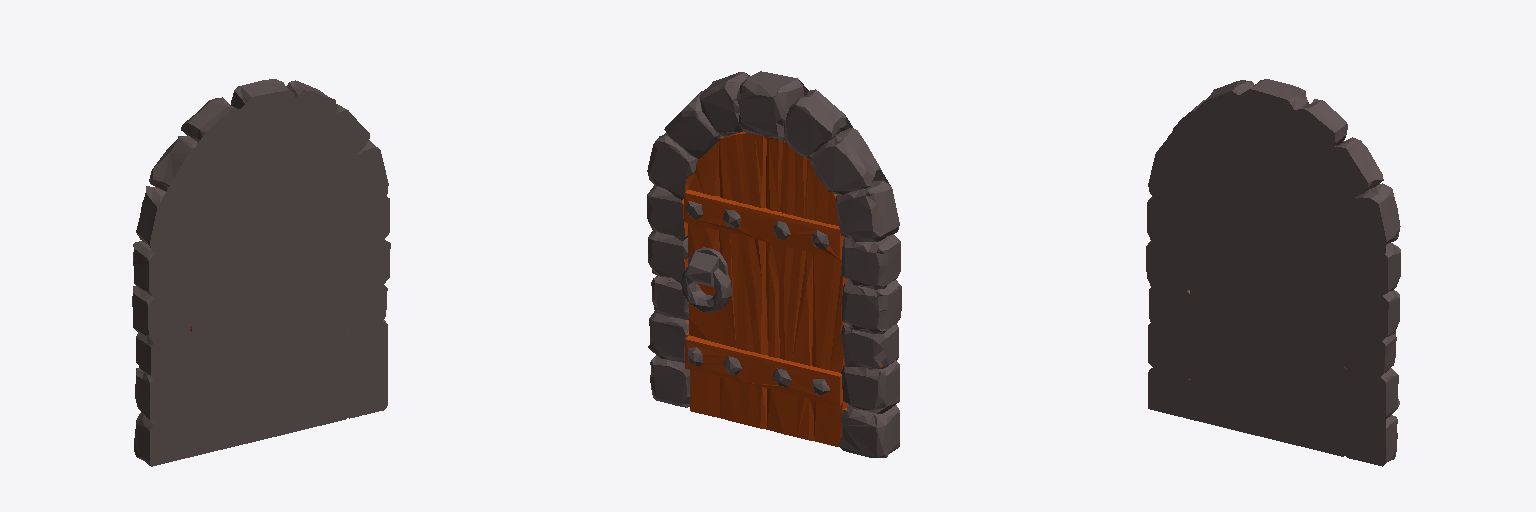
The model's file is door.obj.
The picture shows the model from 3 angles: view 1: azimuth 30°, elevation 25°; view 2: azimuth 150°, elevation 25°; view 3: azimuth 330°, elevation 25°; orthographic projection.
Visible parts, largest first — view 1: door; view 2: door; view 3: door.
Part boxes in pixels (x1,y1,x2,y2): door: (132,79,390,466); door: (647,71,901,457); door: (1146,79,1400,466).
Bounding box in the file's own units: 7.05 × 9.57 × 1.32.